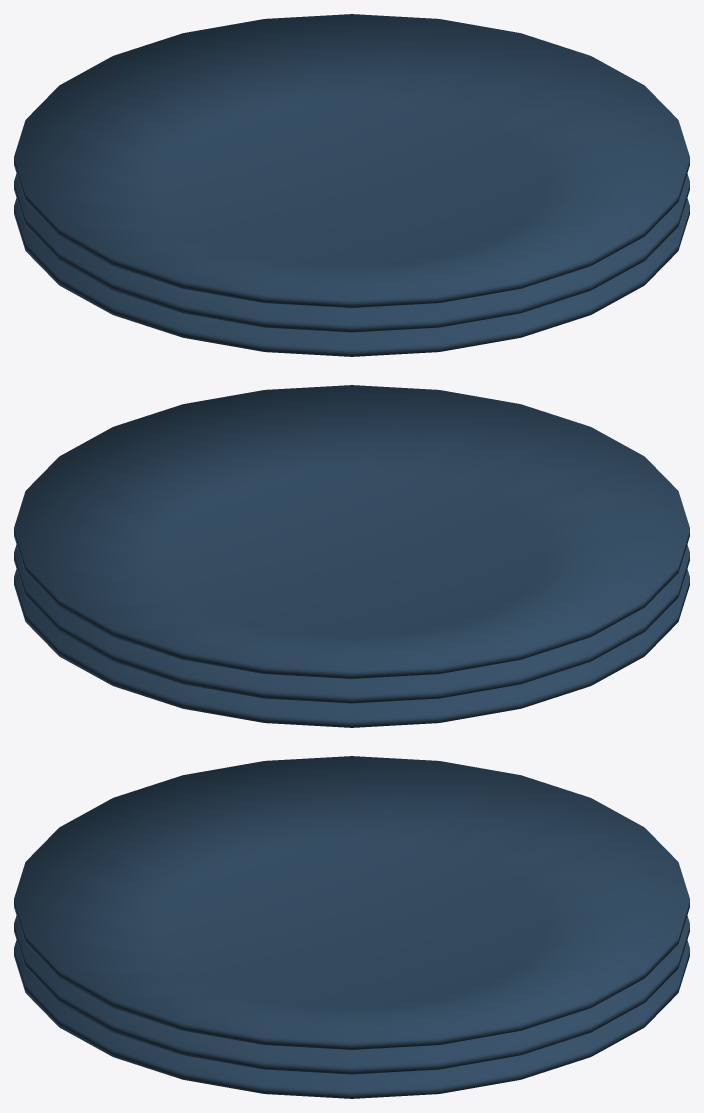
File: i_plates_2.glb
The picture shows the model from 3 angles, top to bottom: view 1: azimuth 30°, elevation 25°; view 2: azimuth 150°, elevation 25°; view 3: azimuth 270°, elevation 25°; orthographic projection.
Visible parts, largest first — view 1: o.002, o, o.001; view 2: o.002, o, o.001; view 3: o.002, o, o.001.
Part boxes in pixels (bbox=[...]): o.002: bbox=[14, 14, 689, 307]; o: bbox=[14, 198, 689, 356]; o.001: bbox=[14, 173, 689, 332]; o.002: bbox=[14, 385, 689, 678]; o: bbox=[14, 569, 689, 727]; o.001: bbox=[14, 544, 689, 703]; o.002: bbox=[14, 756, 689, 1049]; o: bbox=[14, 940, 689, 1098]; o.001: bbox=[14, 915, 689, 1074].
Bounding box in the file's own units: 0.3 × 0.046 × 0.3.
